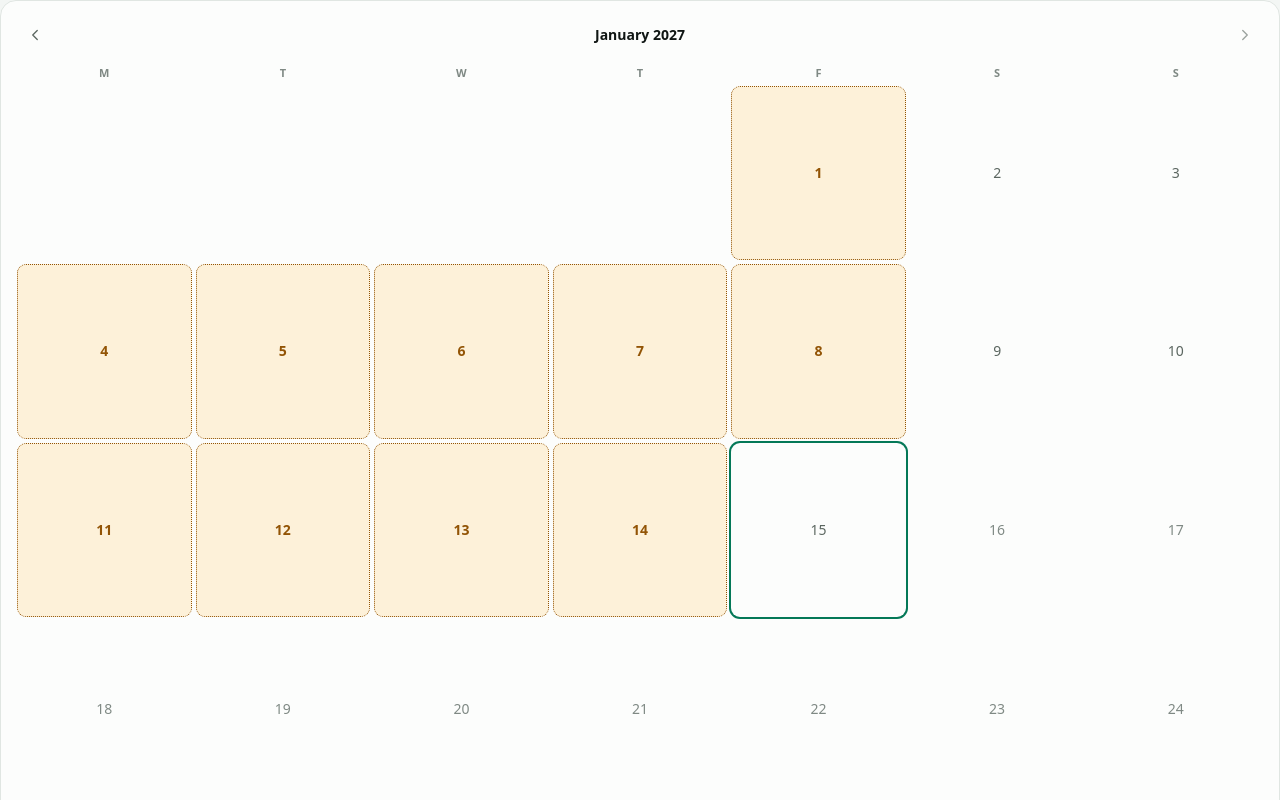
Scenario: MonthTab month navigation › measures “the current month” by the clock, across a year end
Expected: the heading "January 2027" is shown, 595,25 -> 685,45
Expected: the button named "Next month" is disabled, 1227,17 -> 1263,53
Click the button named "Previous month". click: (35, 35)
box: 17,17 -> 53,53
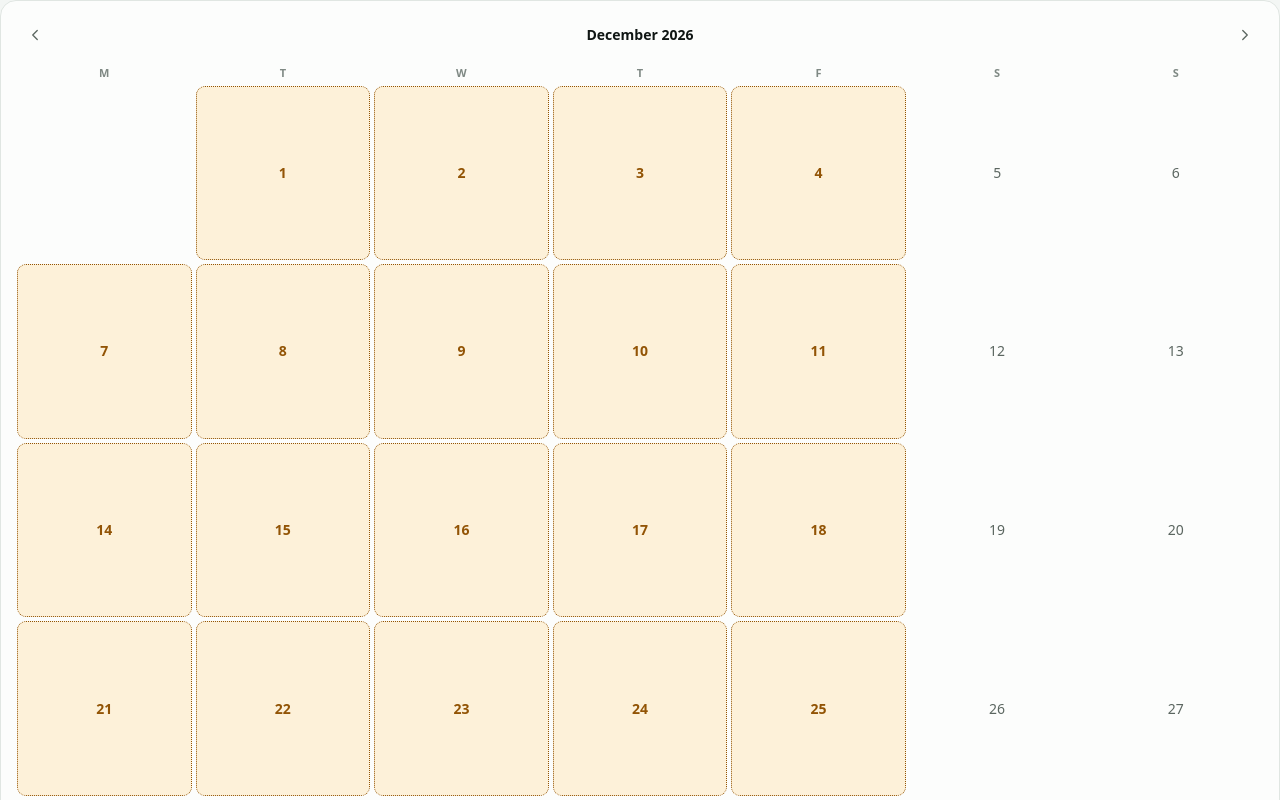
Expected: the button named "Next month" is enabled, 1227,17 -> 1263,53
Expected: the heading "December 2026" is shown, 586,25 -> 694,45
